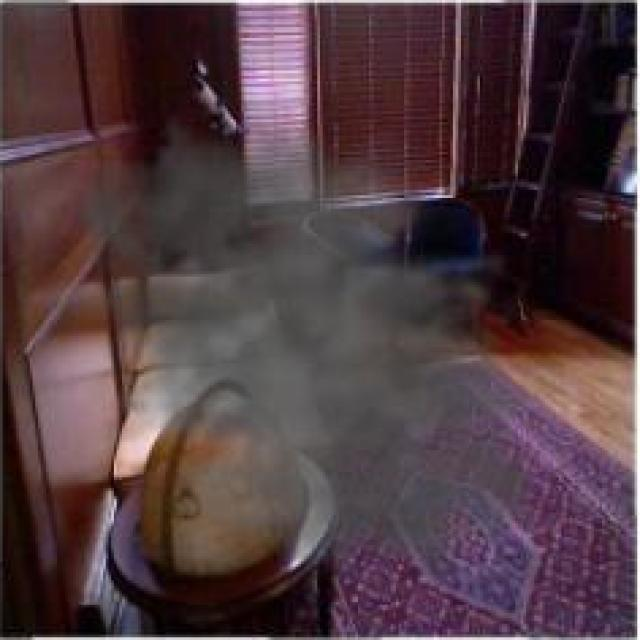fire: (38, 82, 570, 616)
